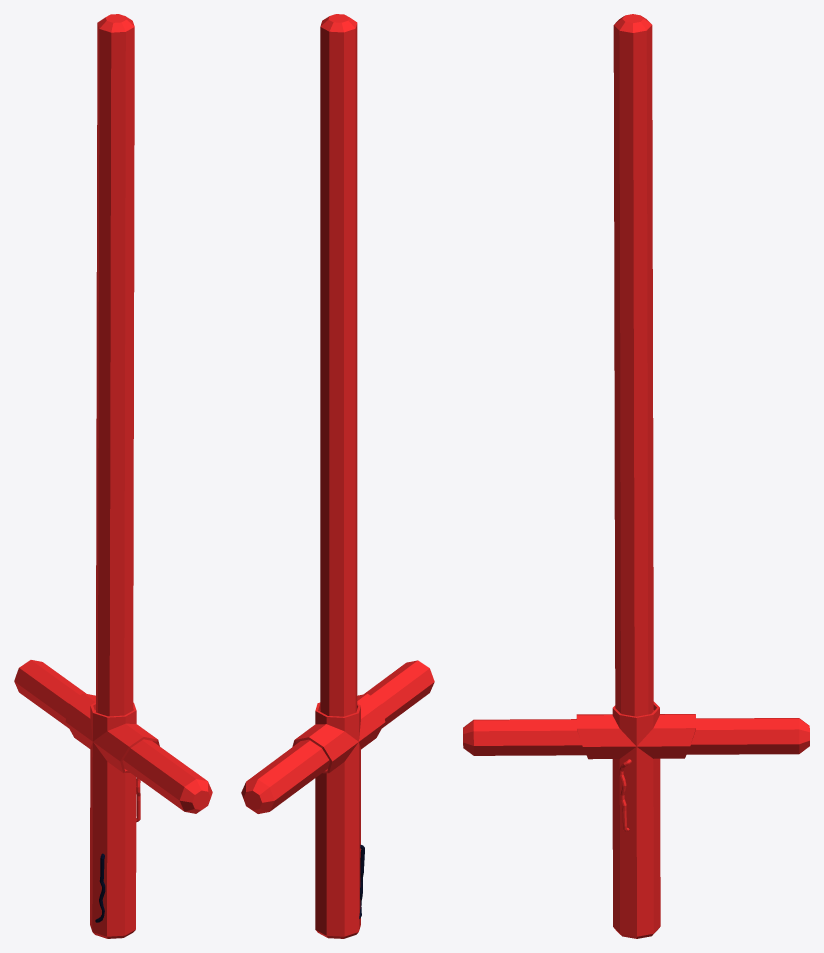
File: bala.obj
3 renders of one model, left to right at view 1: azimuth 30°, elevation 25°; view 2: azimuth 150°, elevation 25°; view 3: azimuth 270°, elevation 25°, orthographic.
Parts seen in each view (by area): view 1: Cylinder.001_Cylinder.005, Cylinder_Cylinder.001, Cylinder.002_Cylinder.004; view 2: Cylinder.001_Cylinder.005, Cylinder_Cylinder.001, Cylinder.002_Cylinder.004; view 3: Cylinder.001_Cylinder.005, Cylinder_Cylinder.001, Cylinder.002_Cylinder.004.
Part boxes in pixels (<box>): Cylinder.001_Cylinder.005: <box>96,14,134,716</box>; Cylinder_Cylinder.001: <box>65,693,159,938</box>; Cylinder.002_Cylinder.004: <box>14,660,212,813</box>; Cylinder.001_Cylinder.005: <box>320,14,357,716</box>; Cylinder_Cylinder.001: <box>292,693,385,938</box>; Cylinder.002_Cylinder.004: <box>241,660,434,813</box>; Cylinder.001_Cylinder.005: <box>613,14,653,716</box>; Cylinder_Cylinder.001: <box>576,701,695,938</box>; Cylinder.002_Cylinder.004: <box>463,718,809,755</box>.
Size of the model in its own units: 2.07 by 42.28 by 14.57.
